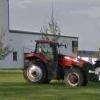Tractor: (19, 33, 97, 96)
